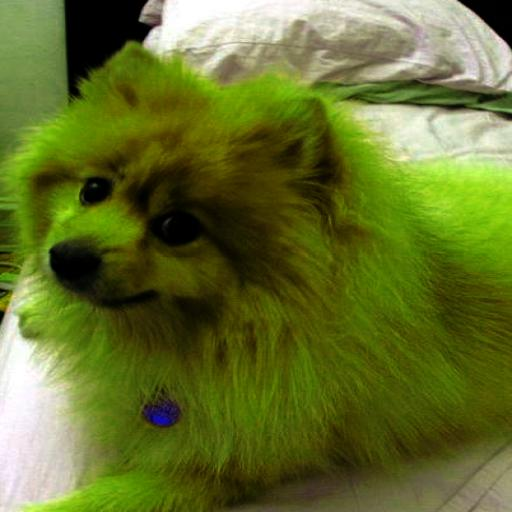dog_face: (22, 48, 338, 315)
